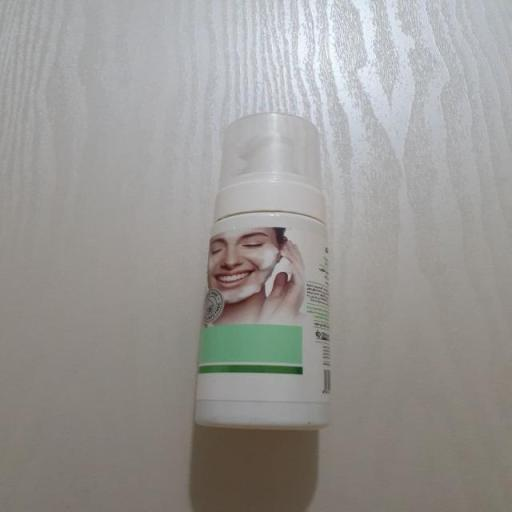plastic: (189, 106, 344, 436)
